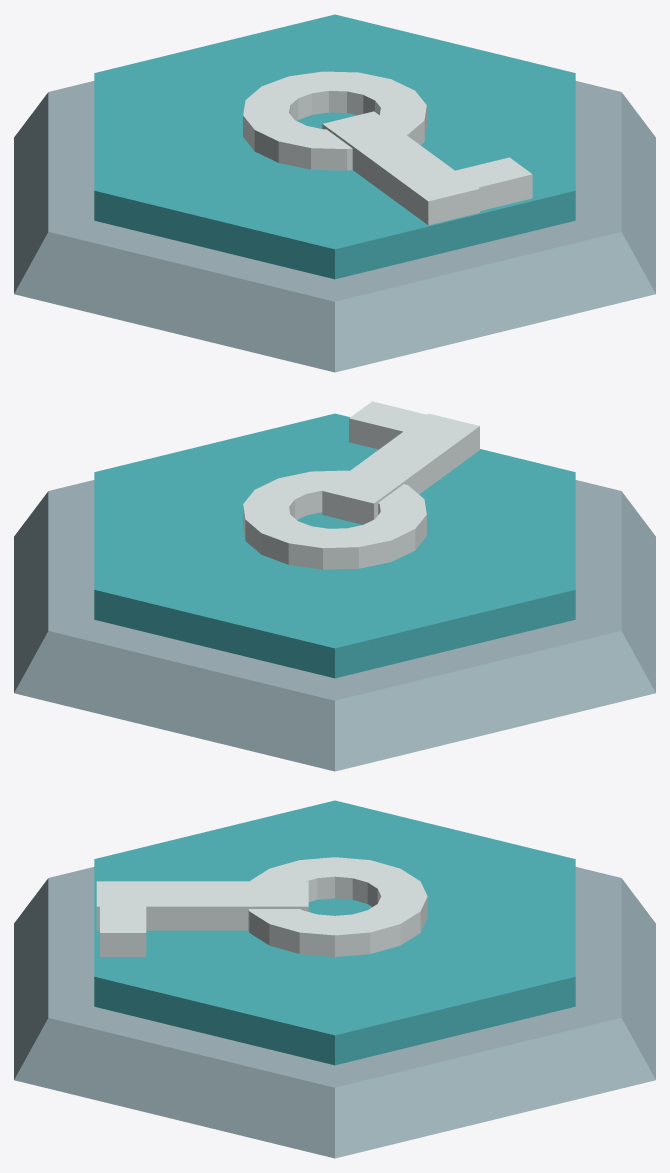
Rendered from orbital-field-station-station-access-token__163.glb.
3 views of the same model, one above another, from view 1: azimuth 30°, elevation 25°; view 2: azimuth 150°, elevation 25°; view 3: azimuth 270°, elevation 25° (orthographic).
Parts seen in each view (by area): view 1: metal, accent, shell; view 2: accent, metal, shell; view 3: metal, accent, shell.
Boxes of the visible parts, x1,y1,x2,y2 form: metal: (14, 81, 655, 372); accent: (94, 14, 575, 279); shell: (243, 71, 532, 225); accent: (94, 413, 575, 678); metal: (14, 480, 655, 771); shell: (243, 401, 479, 569); metal: (14, 867, 655, 1158); accent: (94, 800, 575, 1065); shell: (96, 857, 427, 956).
Size of the model in its own units: 0.56 by 0.09 by 0.485.
